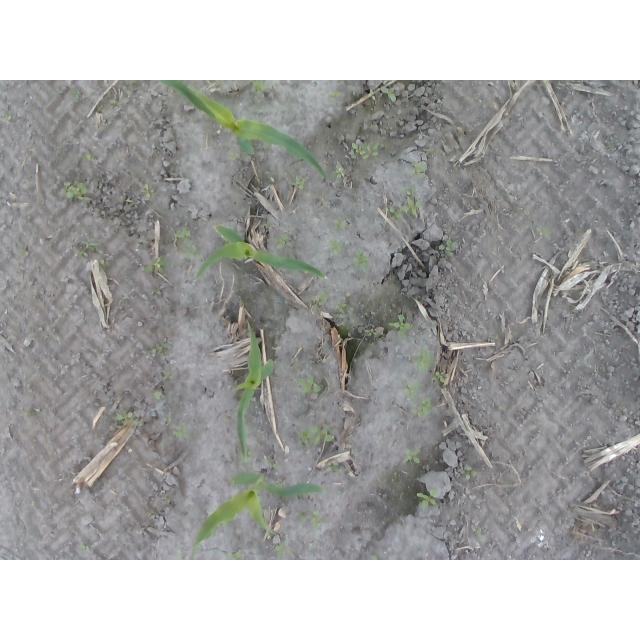Maize: (159, 81, 329, 183), (194, 472, 327, 561), (197, 224, 326, 282), (236, 319, 277, 463)
Weeds: (402, 381, 434, 420), (414, 349, 446, 386), (388, 194, 427, 219), (301, 426, 335, 454), (176, 229, 197, 261), (115, 412, 145, 432), (151, 373, 173, 400), (351, 141, 382, 158), (61, 183, 88, 202), (299, 511, 325, 530), (168, 419, 191, 440), (299, 376, 321, 397), (310, 294, 331, 315), (408, 161, 428, 179), (75, 242, 97, 258), (353, 251, 372, 269), (437, 240, 461, 254), (418, 491, 438, 507), (403, 447, 420, 465), (390, 317, 410, 332), (145, 260, 166, 274), (279, 237, 298, 252), (151, 343, 171, 357), (382, 86, 397, 101), (464, 466, 478, 482), (332, 162, 345, 179), (537, 226, 552, 240), (142, 185, 154, 201), (329, 241, 343, 253), (327, 461, 342, 472), (227, 552, 247, 560), (279, 543, 290, 557), (293, 176, 304, 190), (475, 528, 486, 541), (252, 80, 266, 90), (334, 217, 346, 227), (366, 329, 378, 337)
